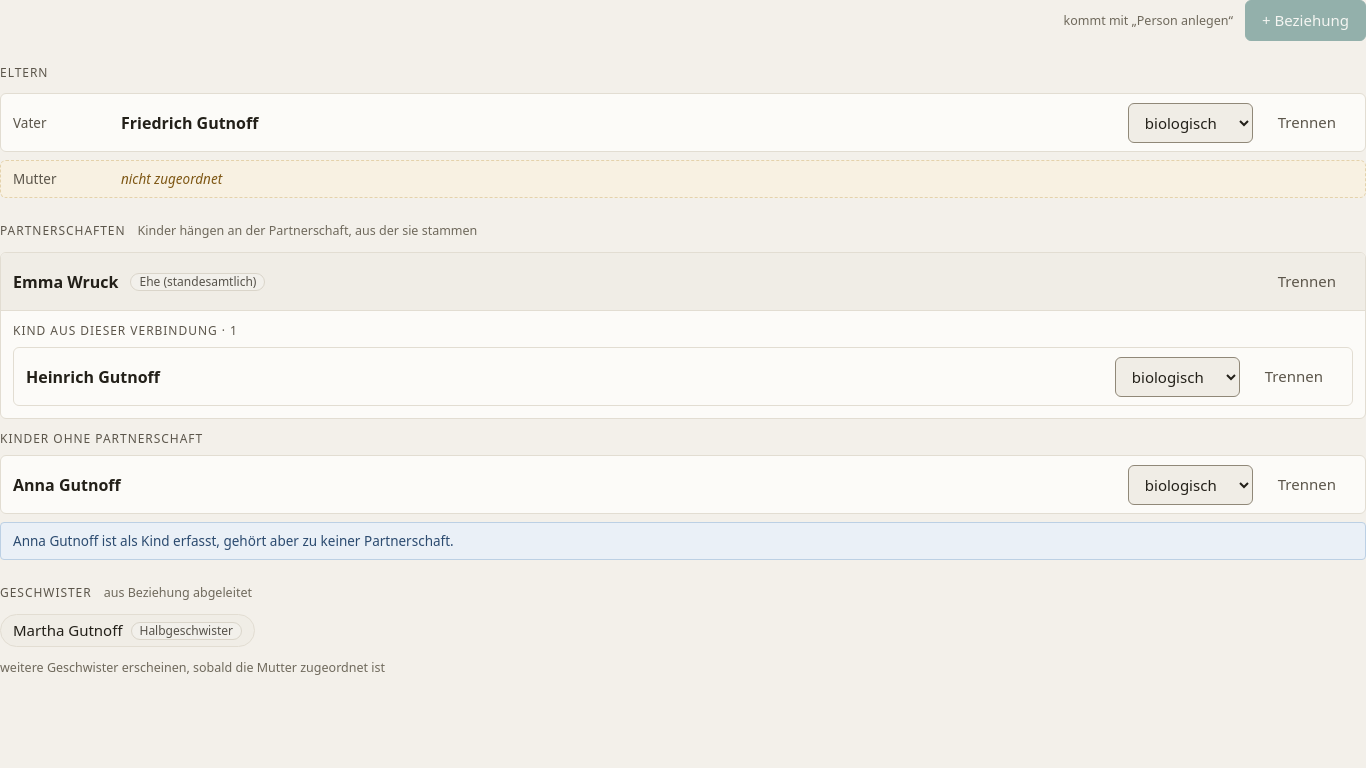
Test: ReiterBeziehungen › Trennen öffnet das Bestätigungs-Modal; Abbrechen schreibt nichts
Click the button "Trennen" in the row of "Vater".
click(1307, 122)  # box [1261,102,1353,143]
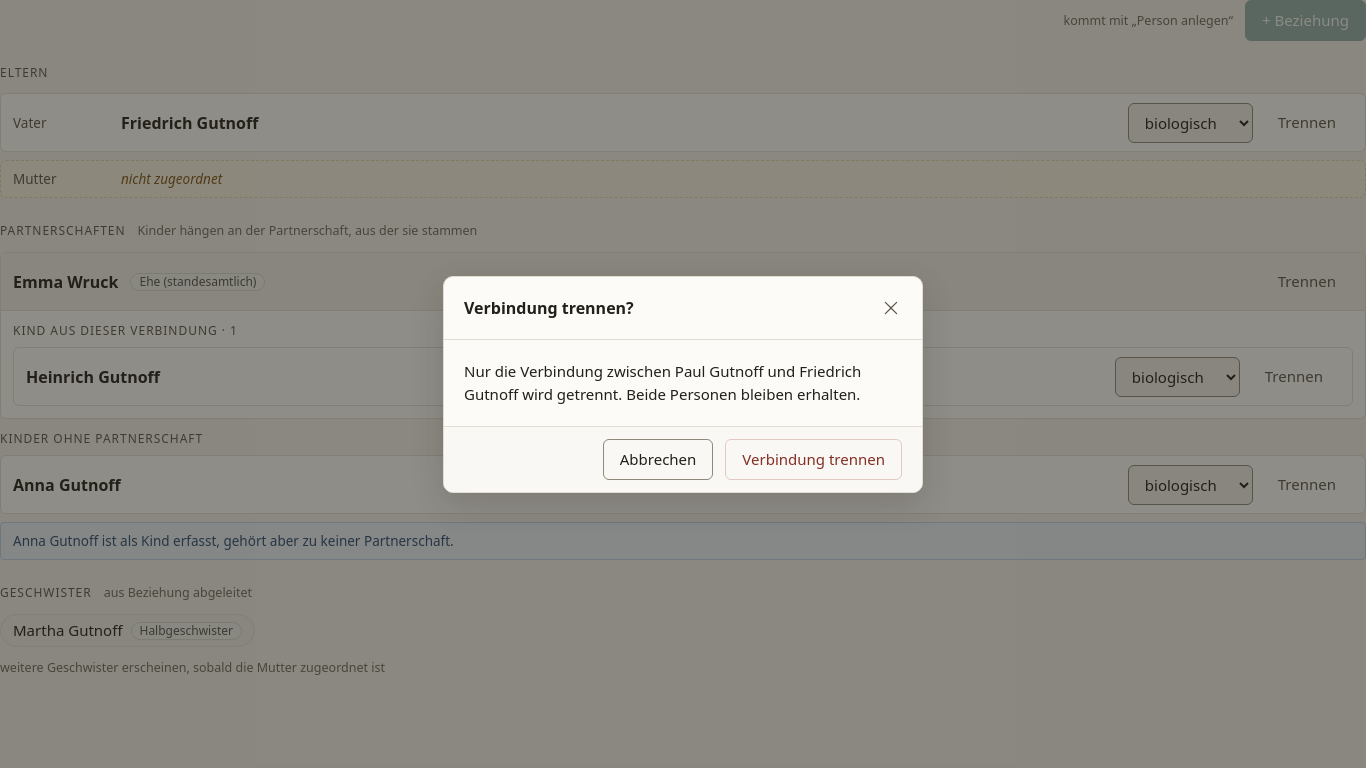
Expected: the dialog shows "Nur die Verbindung zwischen Paul Gutnoff und Friedrich Gutnoff wird getrennt", [464,360,861,404]
Expected: the dialog shows "bleiben erhalten", [464,360,861,404]
Click the button "Abbrechen".
click(658, 459)  # box [603,438,713,480]
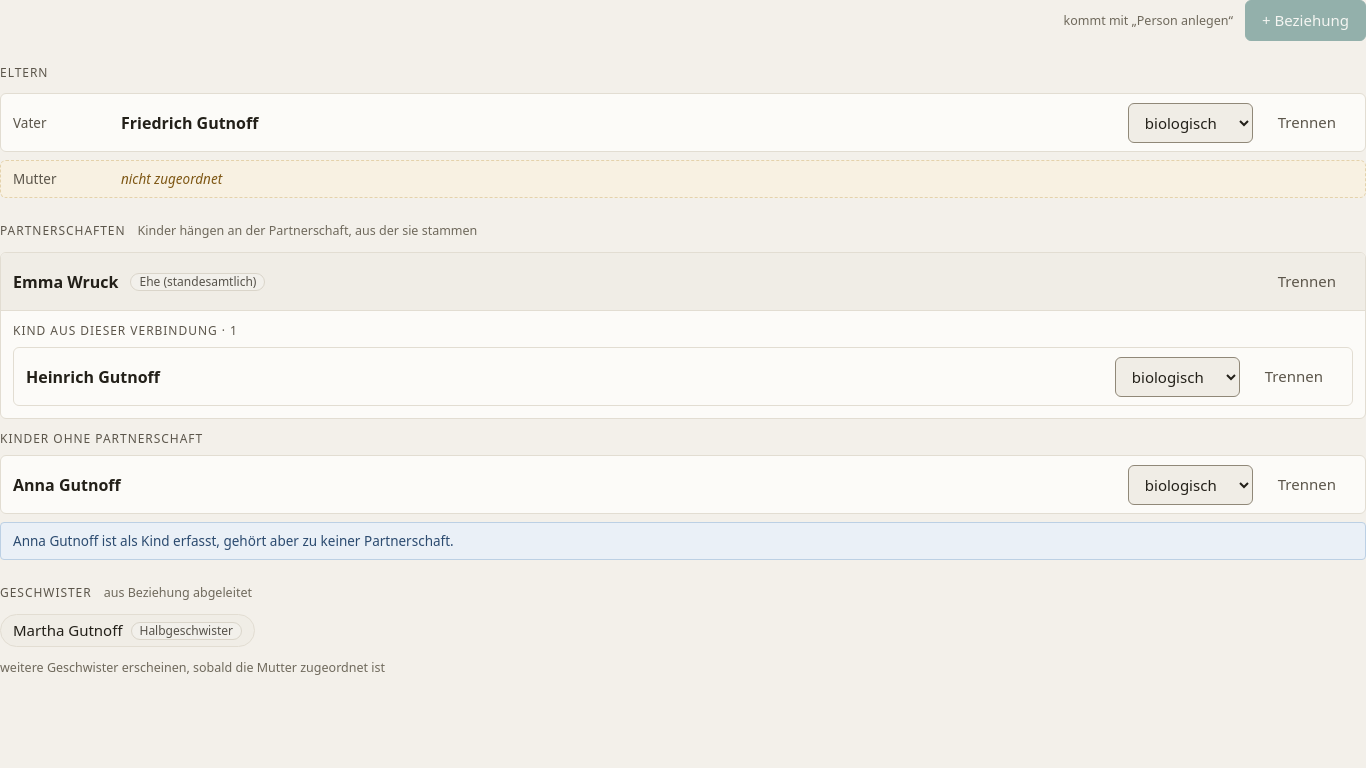
Expected: the dialog is gone
